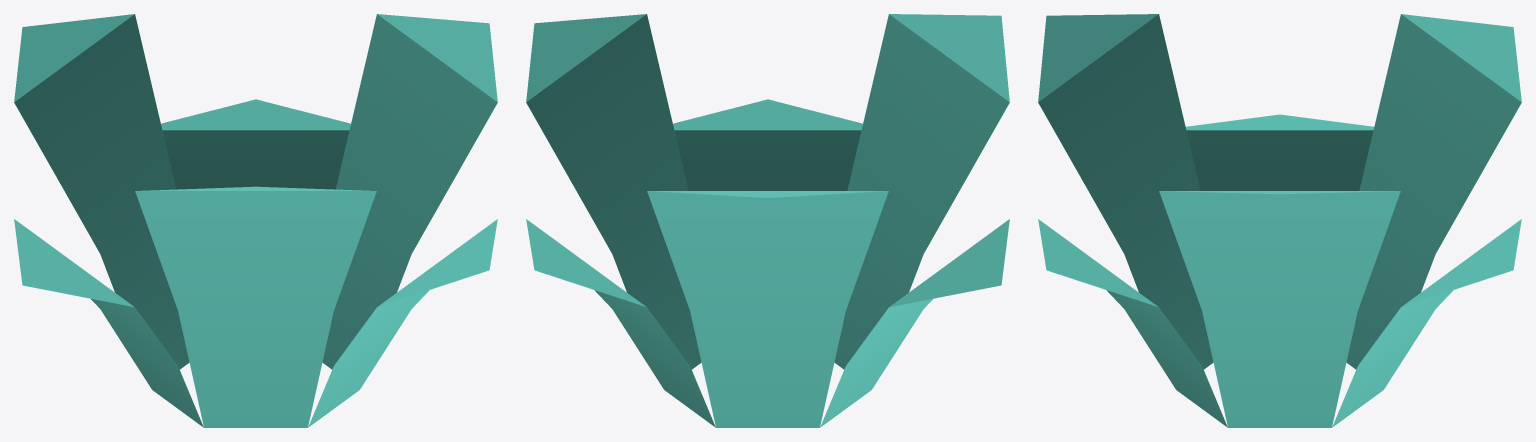
Rendered from plant_bushLarge.obj.
3 renders of one model, left to right at view 1: azimuth 30°, elevation 25°; view 2: azimuth 150°, elevation 25°; view 3: azimuth 270°, elevation 25°, orthographic.
Parts seen in each view (by area): view 1: plant_bushLarge; view 2: plant_bushLarge; view 3: plant_bushLarge.
Boxes of the visible parts, x1,y1,x2,y2 form: plant_bushLarge: [14, 14, 497, 427]; plant_bushLarge: [526, 14, 1009, 427]; plant_bushLarge: [1038, 14, 1521, 427].
Bounding box in the file's own units: 3.74 × 2.43 × 3.36.
